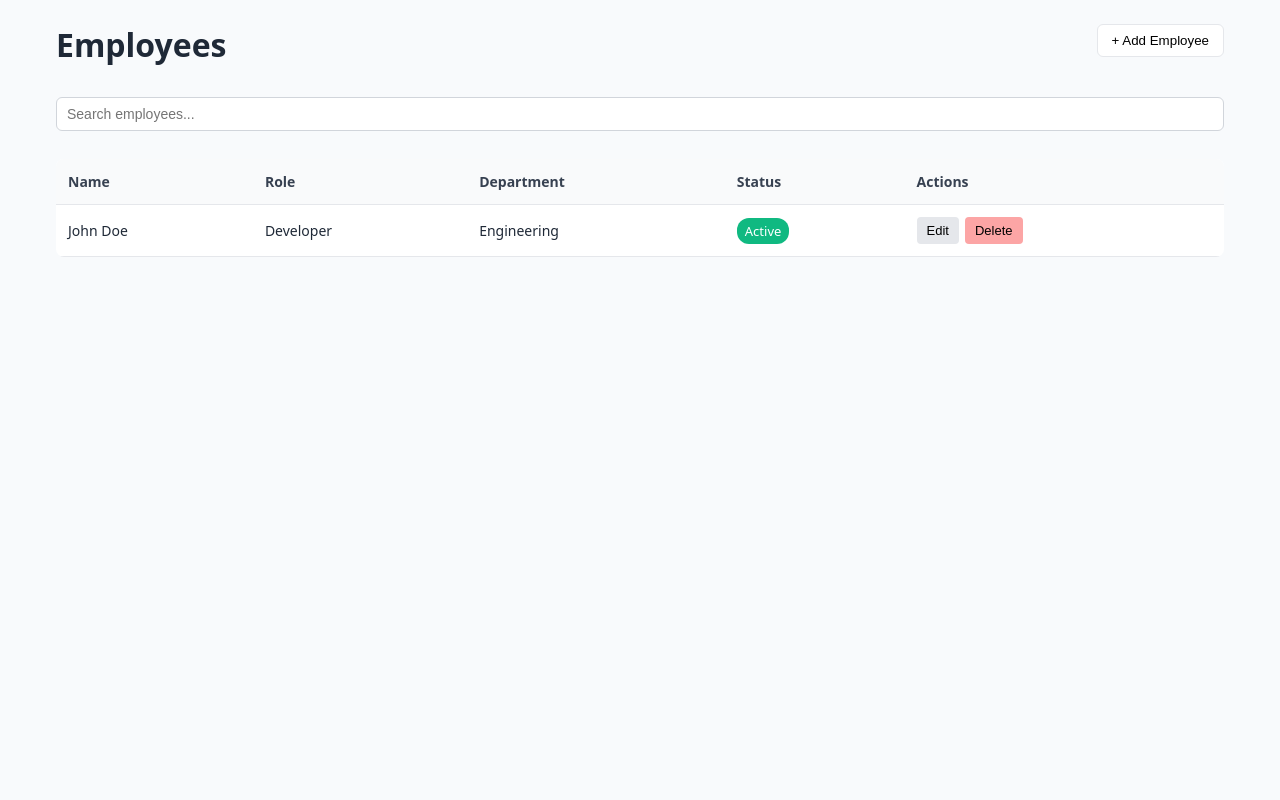
Test case: Employees Component › adds a new employee successfully
Expected: the text "John Doe" is shown, [56,205,253,257]
// Open modal
Click the button "+ Add Employee" at (1160,41), box [1097,24,1224,57]
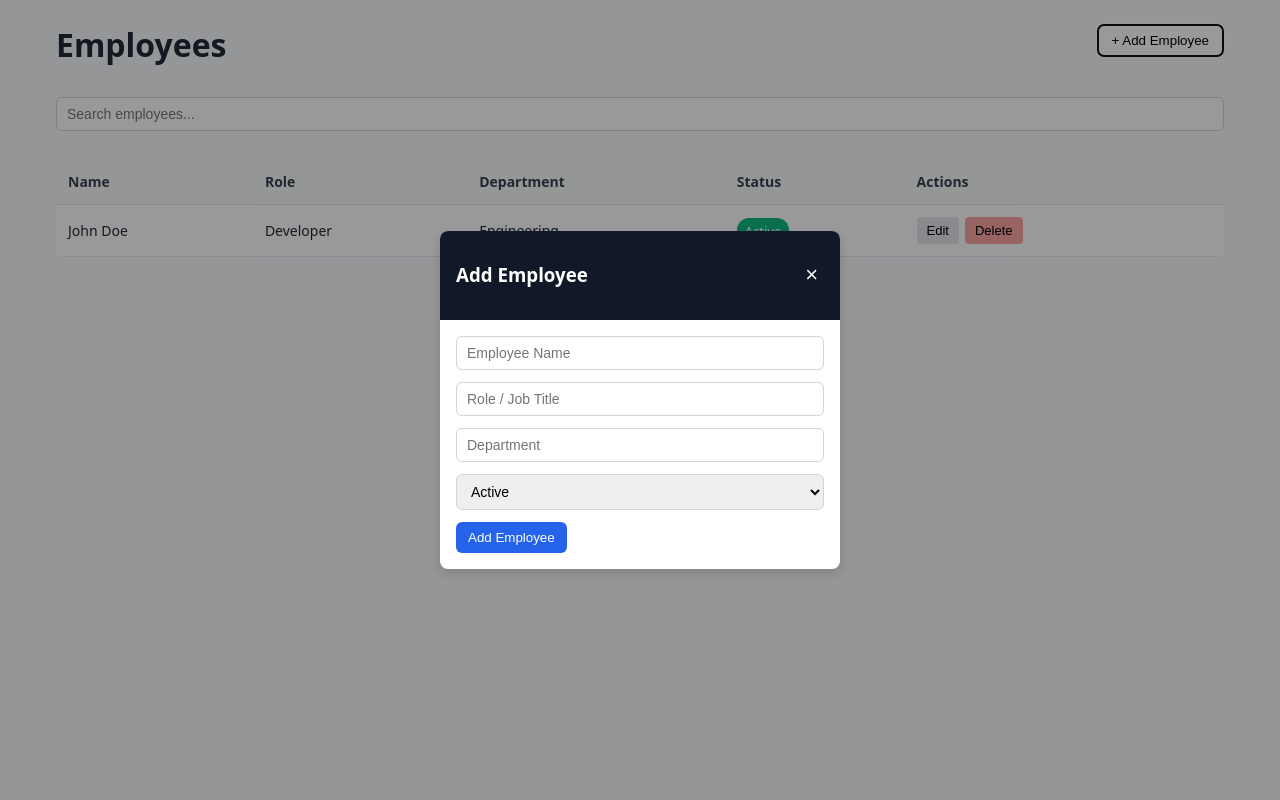
// Fill form
Type "Jane Gourd" into the field with placeholder "Employee Name" at (640,353), box [456,336,824,370]
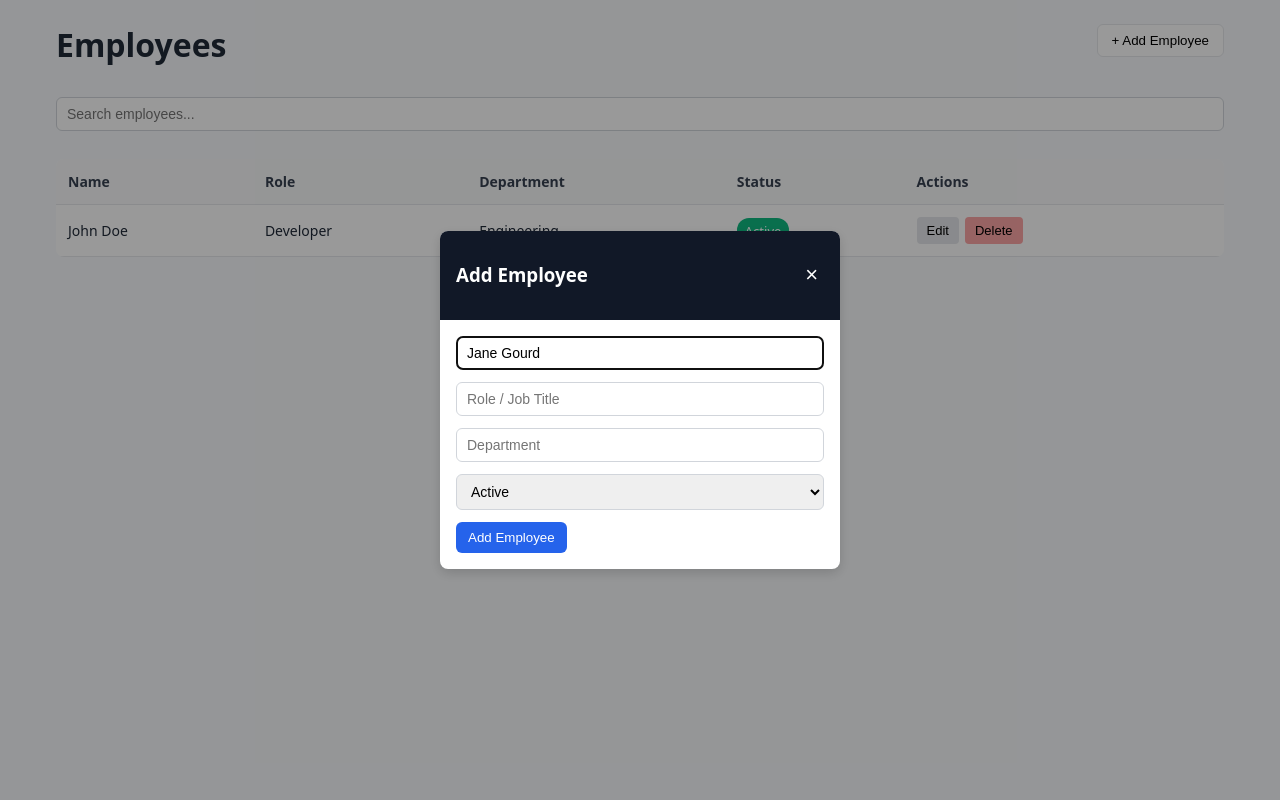
Type "Designer" into the field with placeholder "Role / Job Title" at (640,399), box [456,382,824,416]
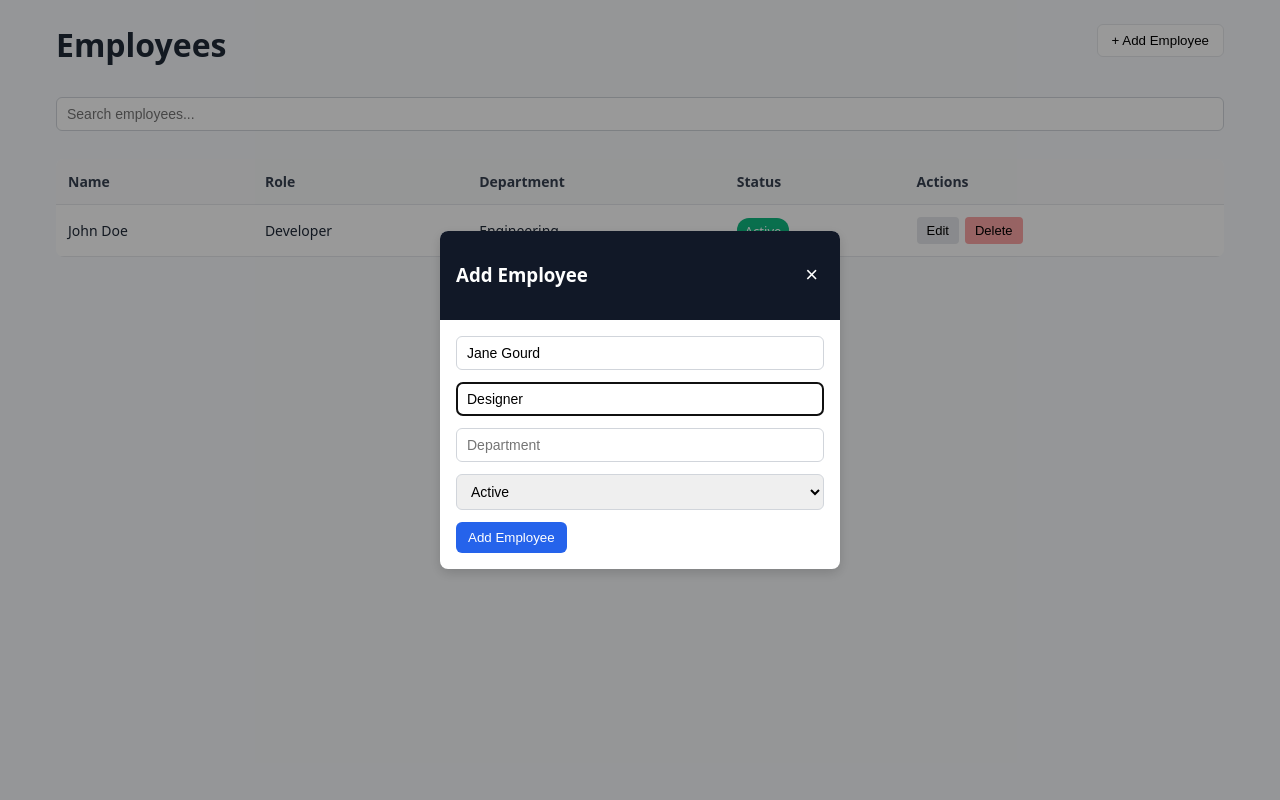
Type "Design" into the field with placeholder "Department" at (640,445), box [456,428,824,462]
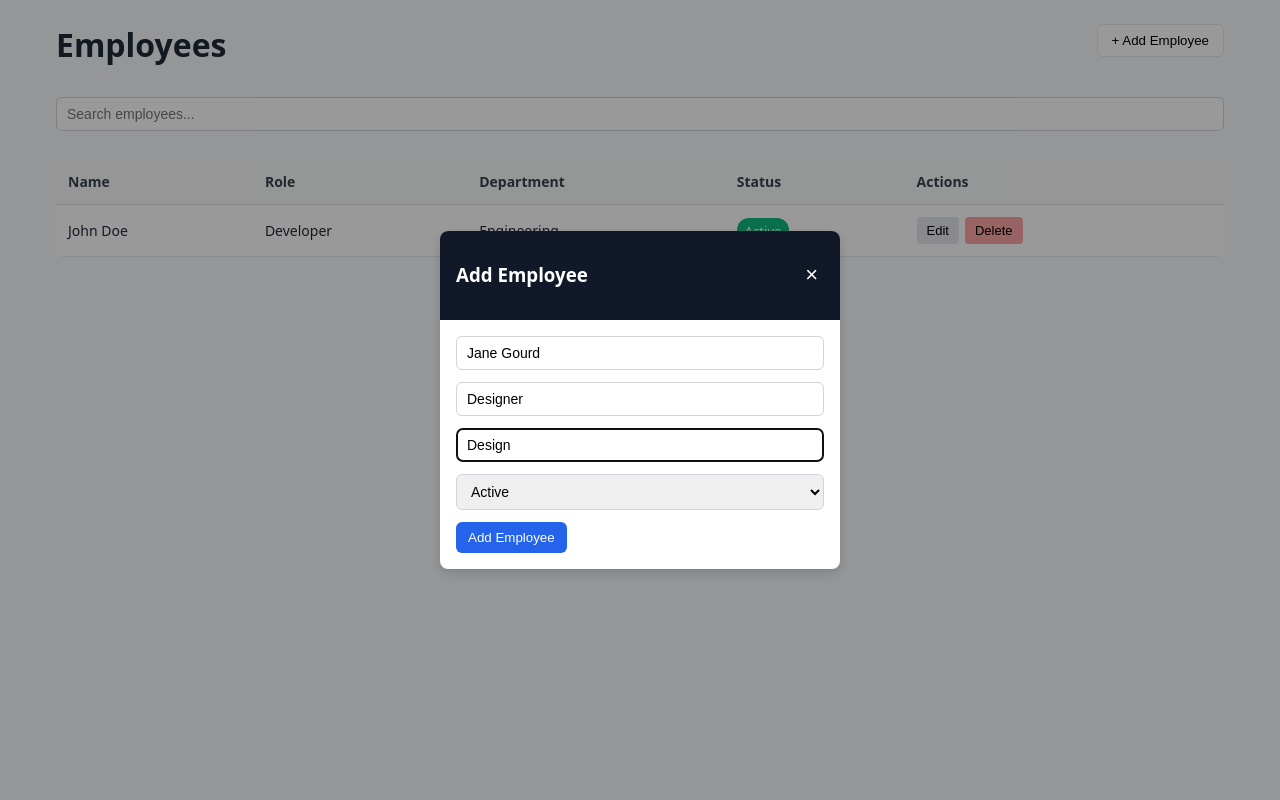
// Submit form
Click the button "Add Employee" at (511,538), box [456,522,567,553]
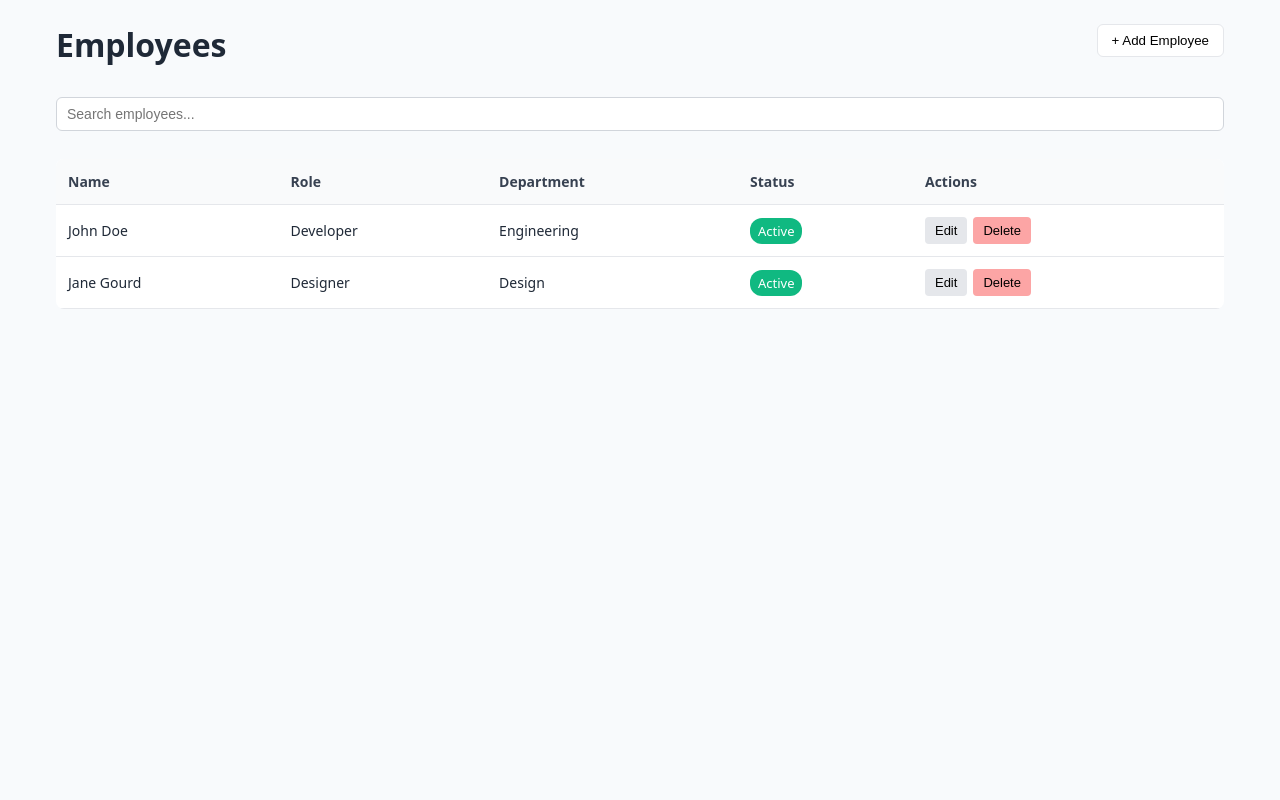
Result: the text "Jane Gourd" is shown at [56,257,278,309]
